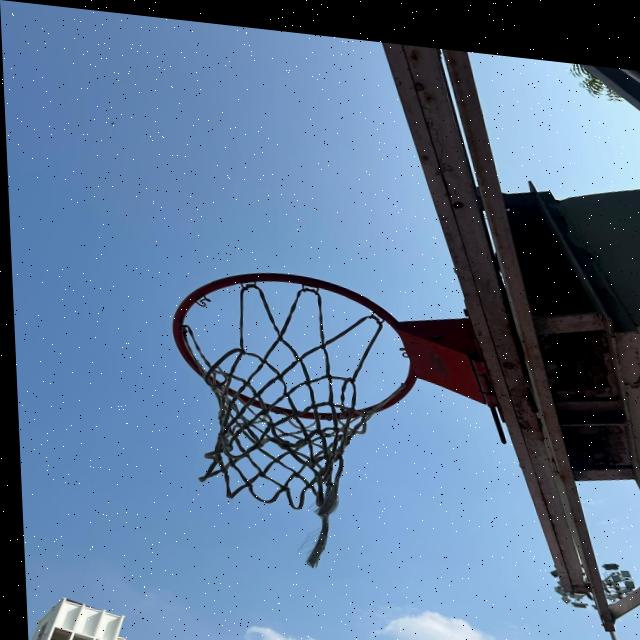hoop: (162, 247, 500, 569)
